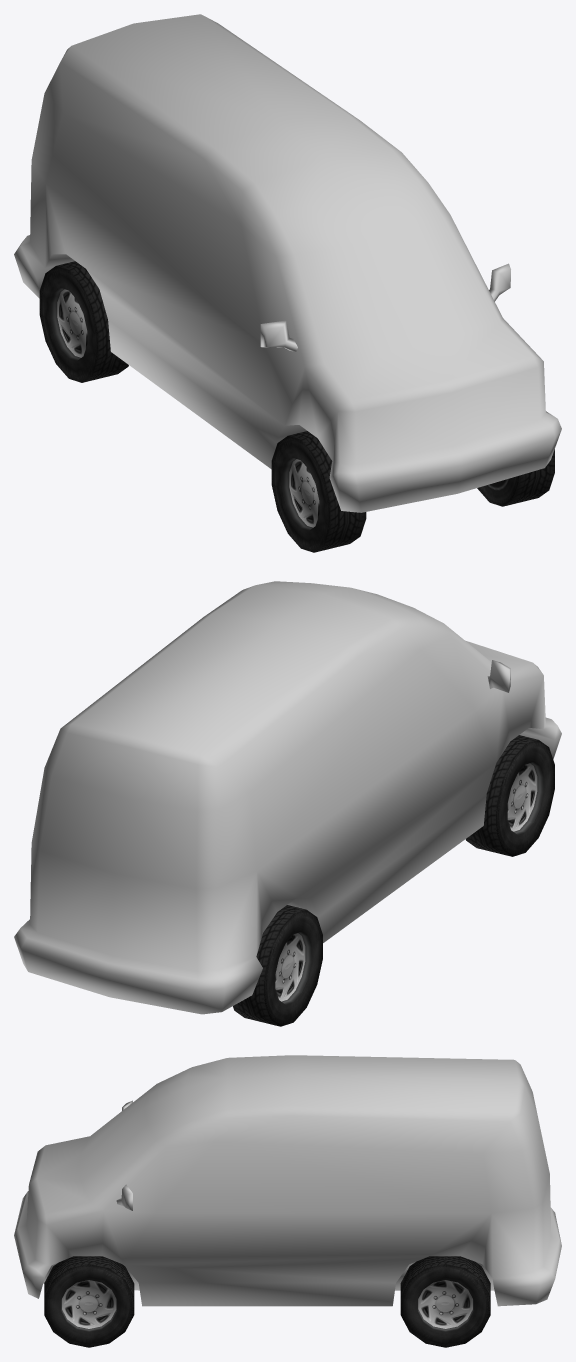
The model's file is PFB-Vehicle-03.fbx.
3 renders of one model, top to bottom at view 1: azimuth 30°, elevation 25°; view 2: azimuth 150°, elevation 25°; view 3: azimuth 270°, elevation 25°, orthographic. The views are drawn at different scales.
Visible parts, largest first — view 1: vehicle-03, vehicle-03-wheel-FR, vehicle-03-wheel-BR, vehicle-03-wheel-FL; view 2: vehicle-03, vehicle-03-wheel-FR, vehicle-03-wheel-BR; view 3: vehicle-03, vehicle-03-wheel-BL, vehicle-03-wheel-FL.
Boxes of the visible parts, x1,y1,x2,y2 form: vehicle-03: (14, 14, 561, 512); vehicle-03-wheel-FR: (271, 431, 366, 552); vehicle-03-wheel-BR: (39, 261, 128, 382); vehicle-03-wheel-FL: (477, 449, 554, 506); vehicle-03: (14, 581, 561, 1014); vehicle-03-wheel-FR: (465, 735, 554, 856); vehicle-03-wheel-BR: (233, 905, 322, 1026); vehicle-03: (14, 1055, 561, 1306); vehicle-03-wheel-BL: (400, 1256, 490, 1347); vehicle-03-wheel-FL: (44, 1256, 134, 1347).
Size of the model in its own units: 334 by 387 by 831.
